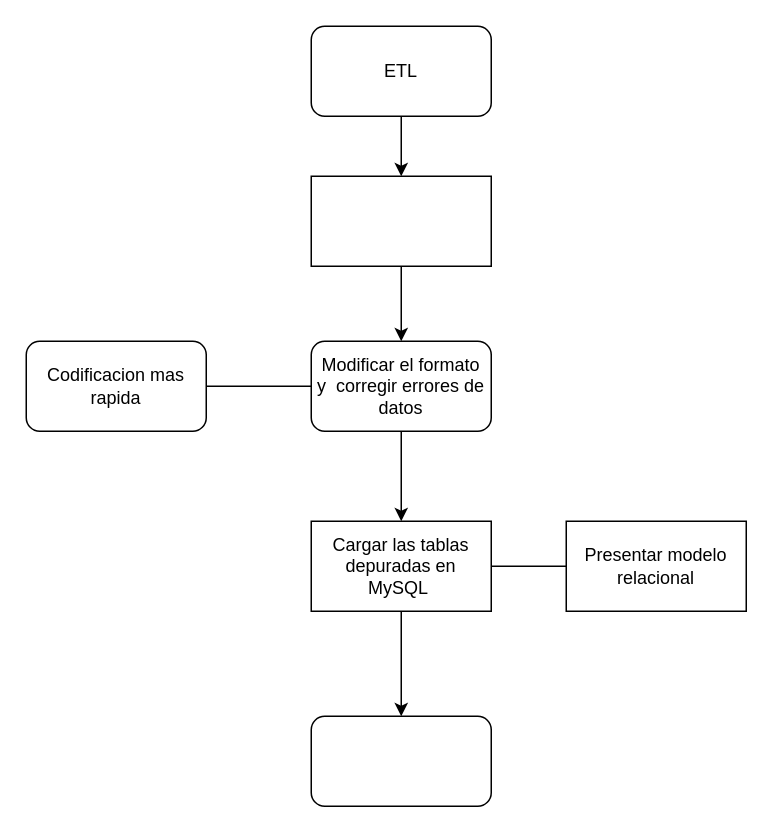
The diagram is 773 pixels wide and 833 high, and some of its shapes have lost their labels. Each missing label, with the box of its shape:
Cargar las tablas a Python - pandas: (310, 175, 491, 266)
Realizar consultas requeridos: (310, 715, 491, 806)
